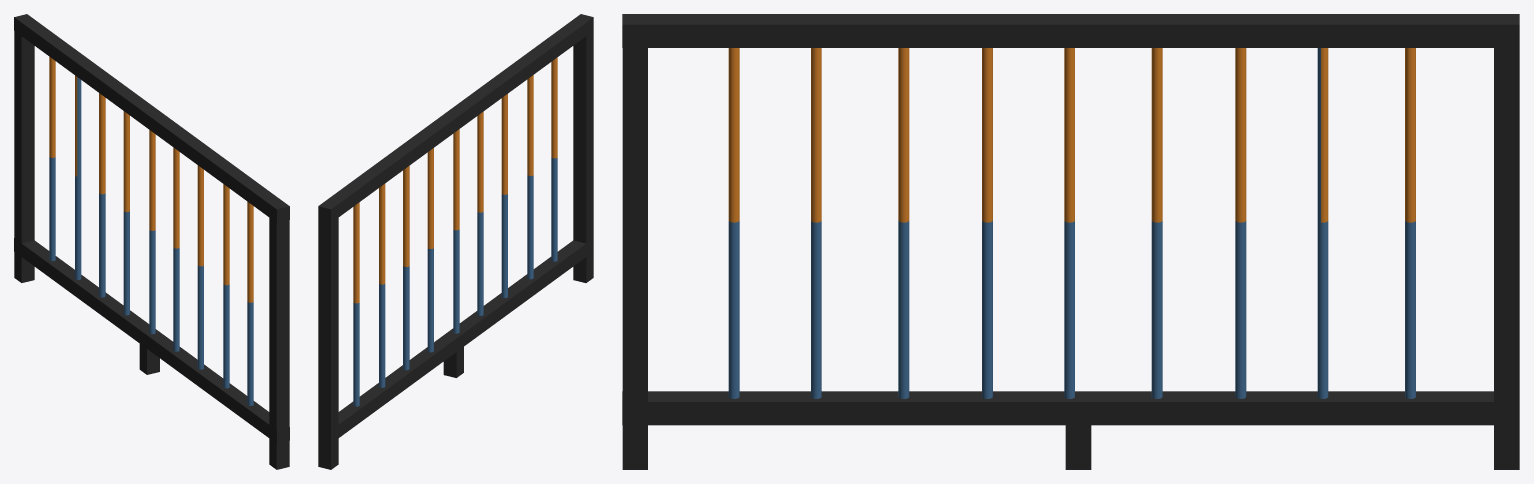
File: fence.fbx
3 renders of one model, left to right at view 1: azimuth 30°, elevation 25°; view 2: azimuth 150°, elevation 25°; view 3: azimuth 270°, elevation 25°, orthographic. The views are drawn at different scales.
Visible parts, largest first — view 1: 큐브.001, 실린더.002, 실린더.001; view 2: 큐브.001, 실린더.002, 실린더.001; view 3: 큐브.001, 실린더.002, 실린더.001.
Boxes of the visible parts, left/top/right/bottom form: 큐브.001: left=14, top=14, right=289, bottom=469; 실린더.002: left=49, top=77, right=253, bottom=405; 실린더.001: left=49, top=57, right=253, bottom=302; 큐브.001: left=318, top=14, right=593, bottom=469; 실린더.002: left=353, top=157, right=557, bottom=406; 실린더.001: left=353, top=57, right=557, bottom=303; 큐브.001: left=622, top=14, right=1519, bottom=469; 실린더.002: left=728, top=48, right=1415, bottom=398; 실린더.001: left=728, top=48, right=1415, bottom=222.
Size of the model in its own units: 10.39 by 199 by 364.
